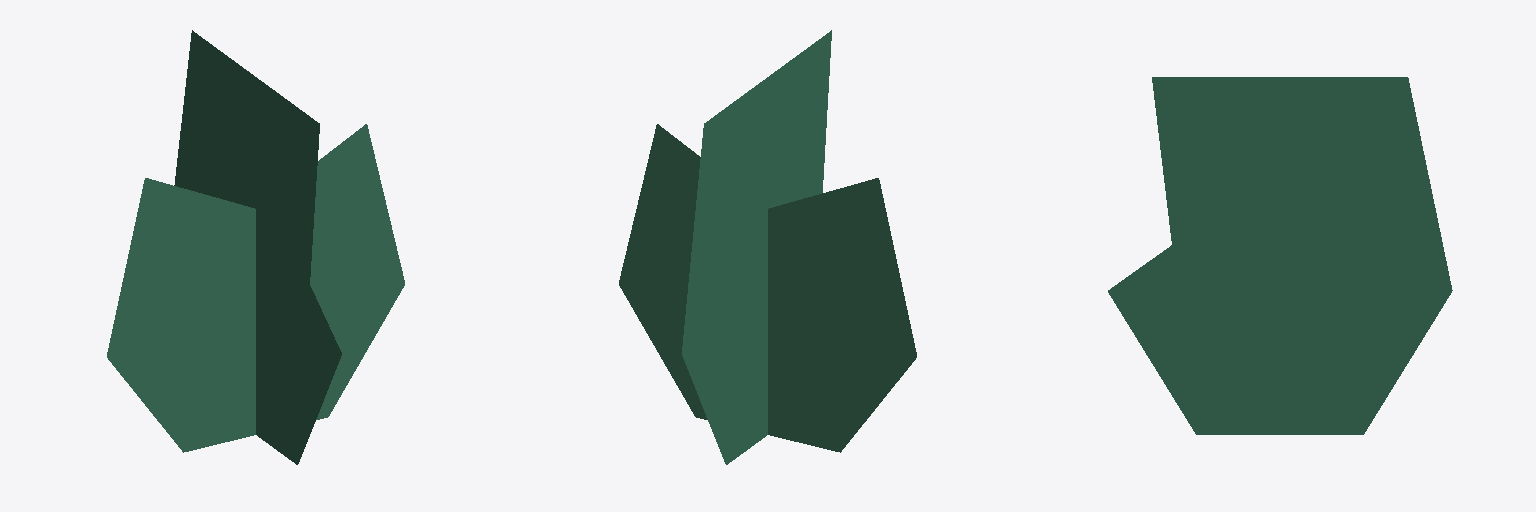
3 renders of one model, left to right at view 1: azimuth 30°, elevation 25°; view 2: azimuth 150°, elevation 25°; view 3: azimuth 270°, elevation 25°, orthographic.
Visible parts, largest first — view 1: Mesh1 Plant_1 Model, Mesh2 Plant_1 Model; view 2: Mesh1 Plant_1 Model, Mesh2 Plant_1 Model; view 3: Mesh2 Plant_1 Model.
Boxes of the visible parts, x1,y1,x2,y2 form: Mesh1 Plant_1 Model: [107, 124, 404, 452]; Mesh2 Plant_1 Model: [174, 30, 341, 464]; Mesh1 Plant_1 Model: [619, 124, 916, 452]; Mesh2 Plant_1 Model: [682, 30, 831, 464]; Mesh2 Plant_1 Model: [1108, 77, 1452, 434].
Bounding box in the file's own units: 0.5692 × 0.6512 × 0.5692.
1 materials, 1 textured.